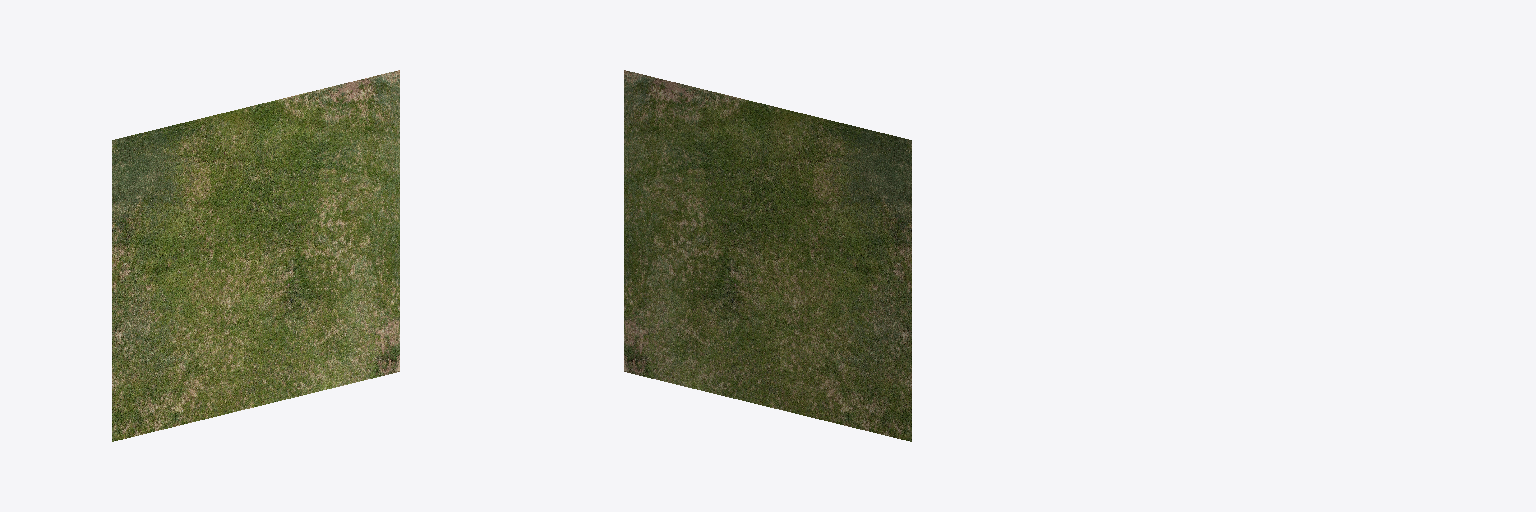
The picture shows the model from 3 angles: view 1: azimuth 30°, elevation 25°; view 2: azimuth 150°, elevation 25°; view 3: azimuth 270°, elevation 25°; orthographic projection.
Parts seen in each view (by area): view 1: Ground; view 2: Ground; view 3: none.
Part boxes in pixels (left/top/right/bottom): Ground: left=112, top=70, right=399, bottom=441; Ground: left=624, top=70, right=911, bottom=441.
Bounding box in the file's own units: 20000 × 20000 × 0.
Materials: 1 (1 with a texture image).